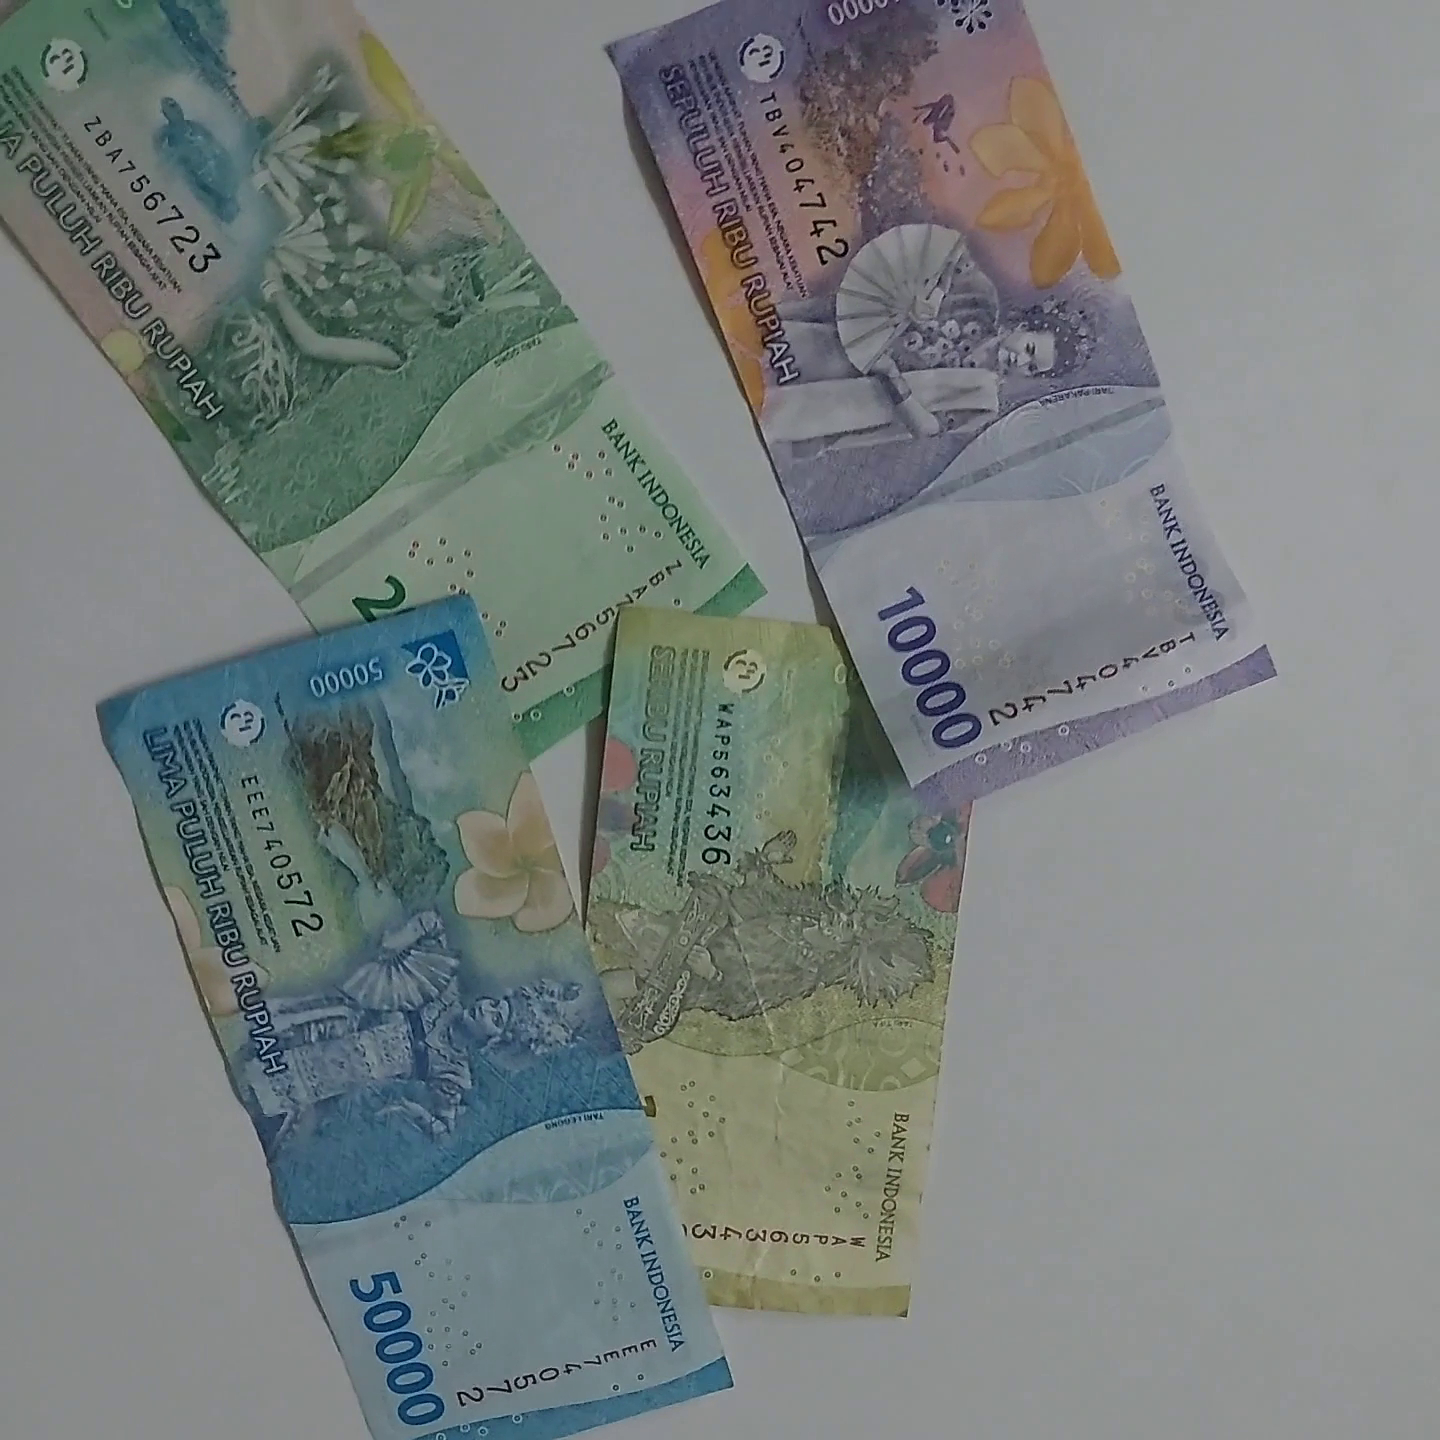10k: (655, 0, 1331, 773)
1k: (553, 582, 977, 1352)
20k: (0, 0, 770, 733)
50k: (58, 626, 720, 1440)
